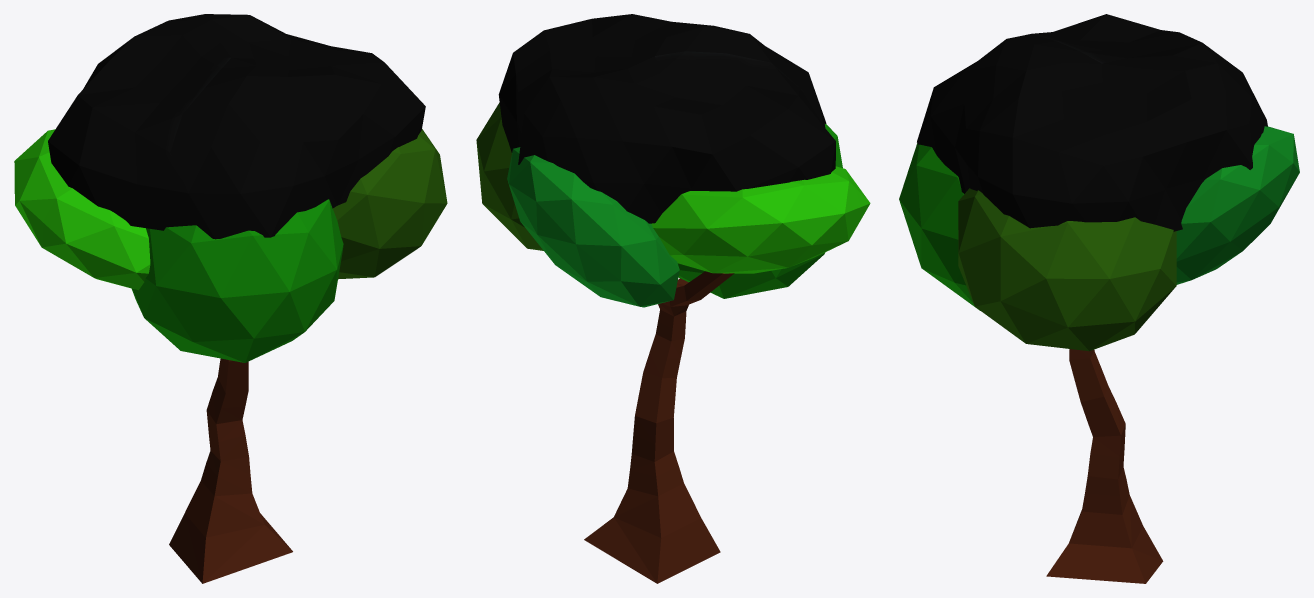
Rendered from SnowTree1.fbx.
3 views of the same model, side by side, from view 1: azimuth 30°, elevation 25°; view 2: azimuth 150°, elevation 25°; view 3: azimuth 270°, elevation 25° (orthographic). The views are drawn at different scales.
Visible parts, largest first — view 1: snowtree1; view 2: snowtree1; view 3: snowtree1.
Part boxes in pixels (bbox=[...]): snowtree1: bbox=[14, 14, 447, 583]; snowtree1: bbox=[476, 14, 870, 583]; snowtree1: bbox=[899, 14, 1299, 583].
Size of the model in its own units: 627 by 799 by 554.
